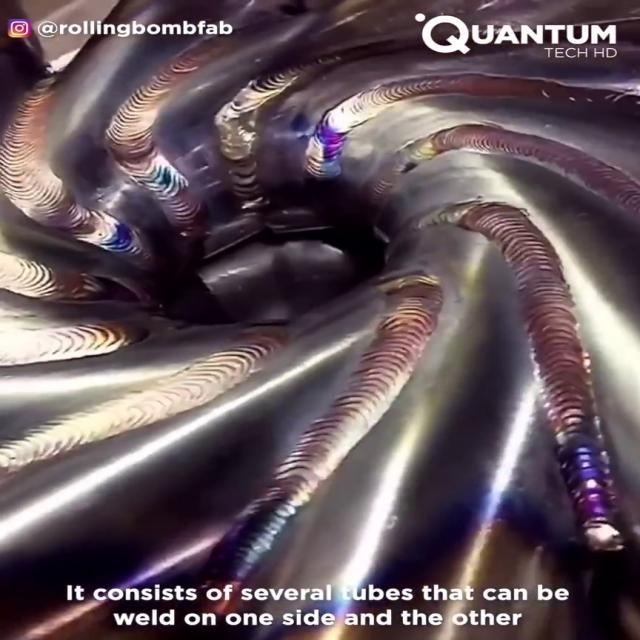Good Weld: (464, 203, 612, 466), (288, 322, 441, 550), (5, 89, 197, 258), (356, 82, 634, 194), (5, 370, 215, 472), (220, 64, 280, 176), (0, 321, 121, 366)
